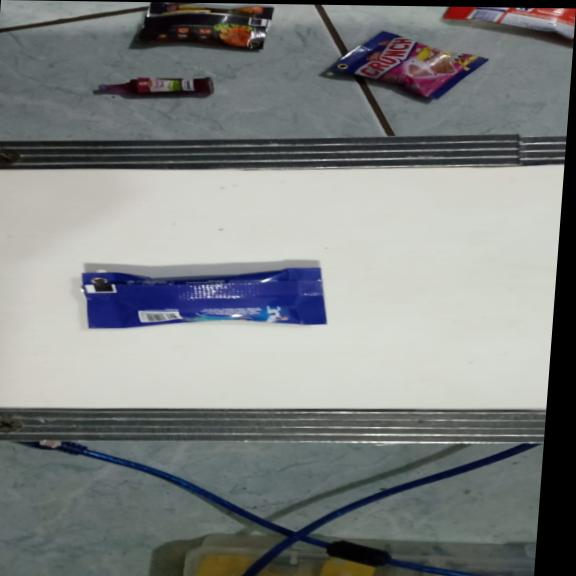Plastik: (73, 263, 334, 333), (322, 29, 495, 101), (124, 2, 272, 54), (441, 7, 576, 41), (94, 77, 214, 98)
